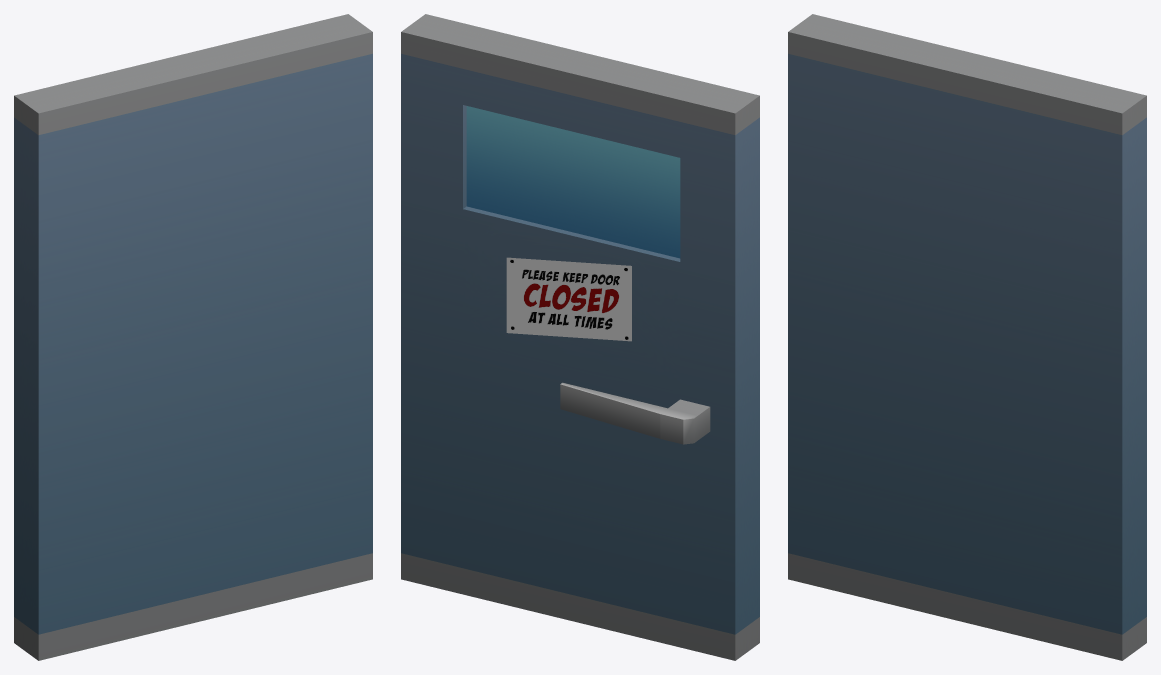
Rendered from geo_freezerDoor.fbx.
3 views of the same model, side by side, from view 1: azimuth 30°, elevation 25°; view 2: azimuth 150°, elevation 25°; view 3: azimuth 330°, elevation 25° (orthographic).
Visible parts, largest first — view 1: geo_freezerDoor; view 2: geo_freezerDoor; view 3: geo_freezerDoor.
Boxes of the visible parts, <box> form: geo_freezerDoor: <box>14,14,372,660</box>; geo_freezerDoor: <box>401,14,759,660</box>; geo_freezerDoor: <box>788,14,1146,660</box>.
Bounding box in the file's own units: 335 × 525 × 77.24.
Materials: 1 (1 with a texture image).
